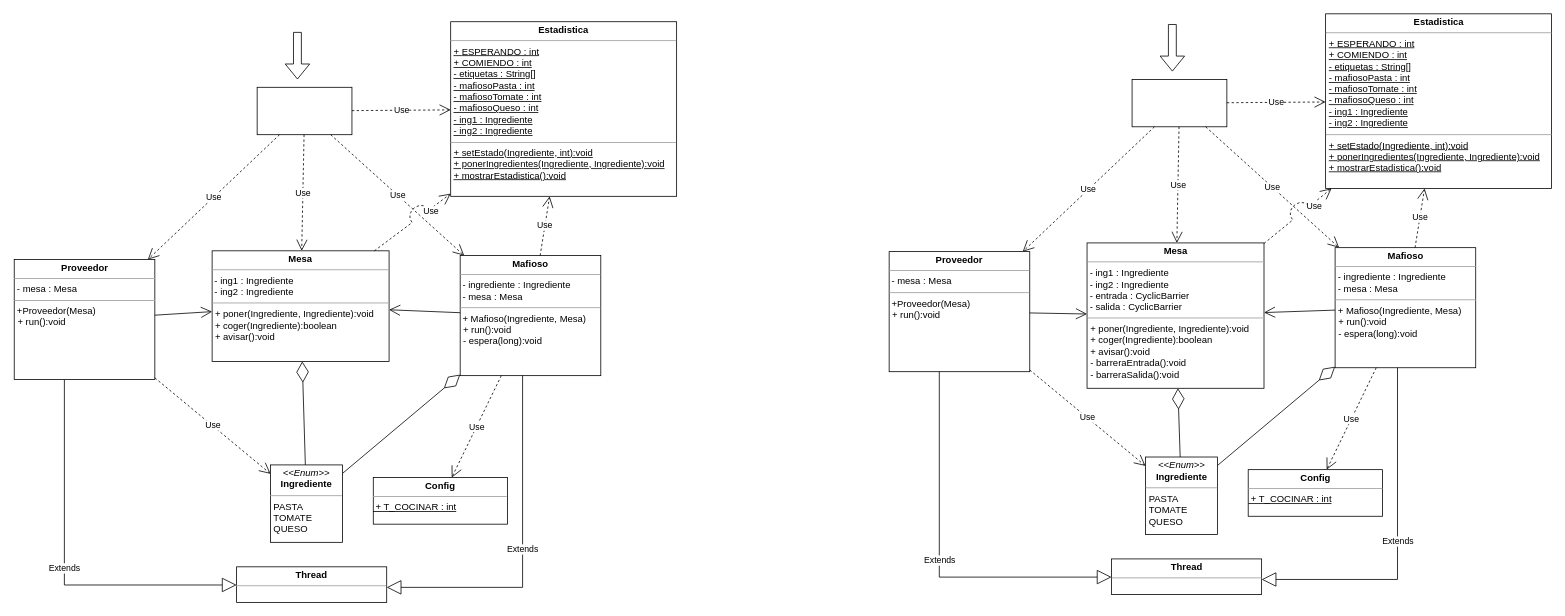
Image size: 1565x616. Some labels were removed from this diagram. The box of each missing label's shape, as (x1, y1, x2, y2) in pixels:
Reto7_8A_A + main(String): (256, 87, 352, 135)
Reto7_8A_B + main(String): (1131, 79, 1227, 127)
